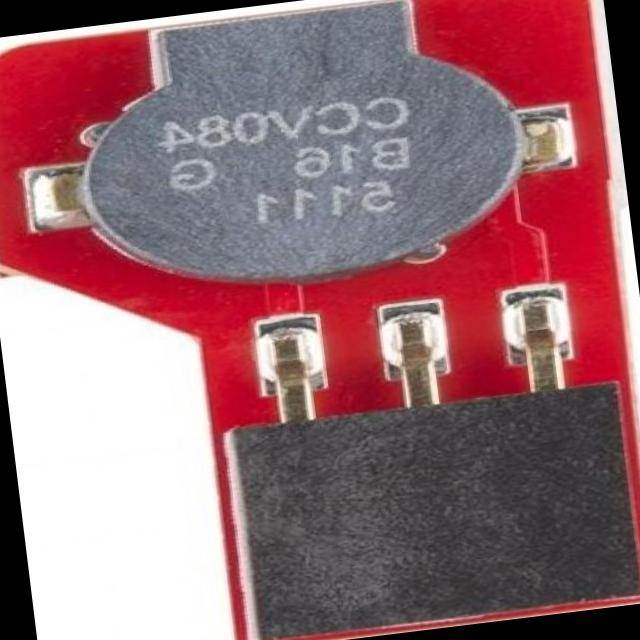connector: (212, 312, 640, 640)
